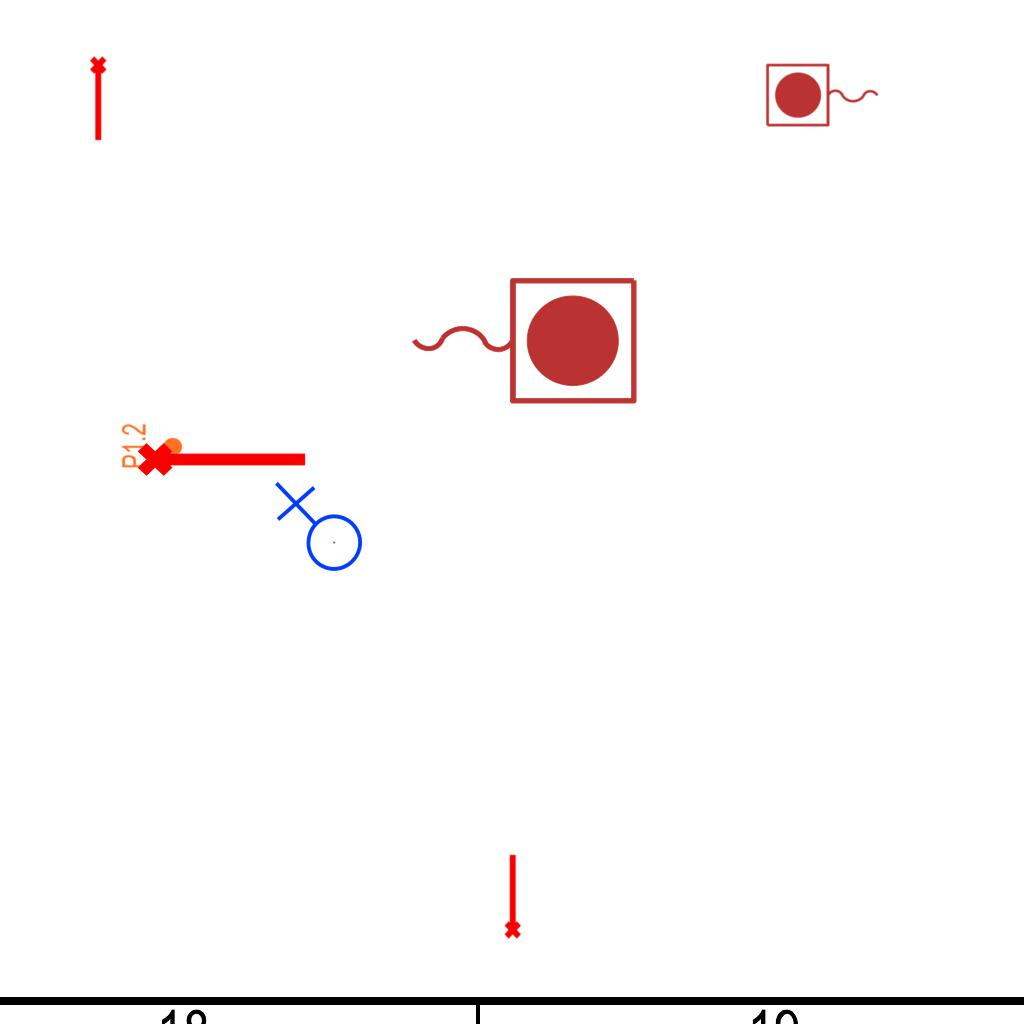ASR_Ansaugoeffnung: (135, 434, 311, 480), (88, 55, 111, 143), (500, 852, 523, 940)
Downlight_LED_Einbauleuchten_Flur: (120, 423, 184, 469)
Elektroanschluss_allgemein_230V_Geraeteanschlussdose_230V: (270, 481, 364, 580)
Zugtaster: (401, 267, 645, 411), (762, 60, 884, 132)
